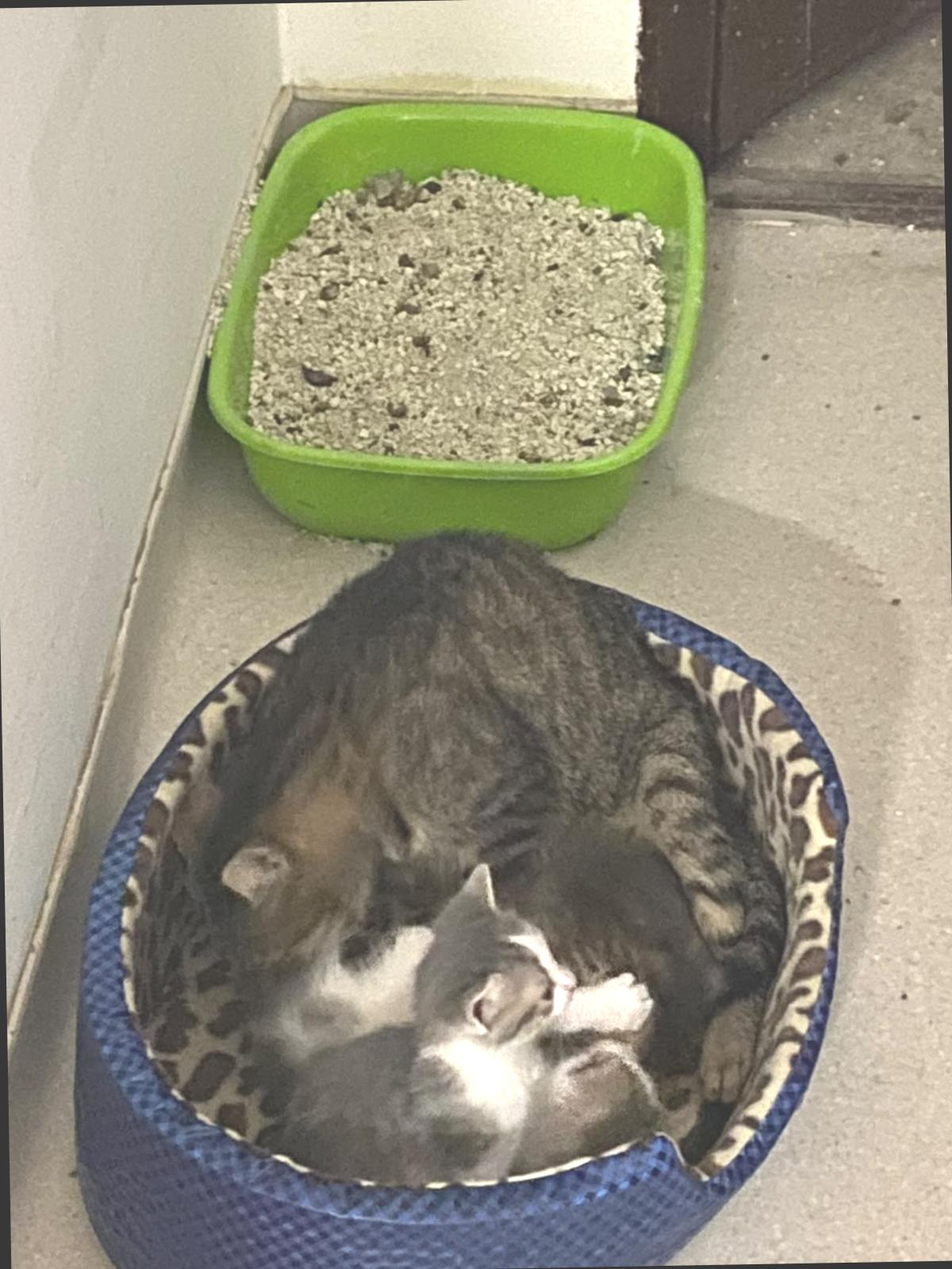macka: (165, 528, 777, 992), (274, 859, 578, 1187), (520, 1036, 701, 1174)
